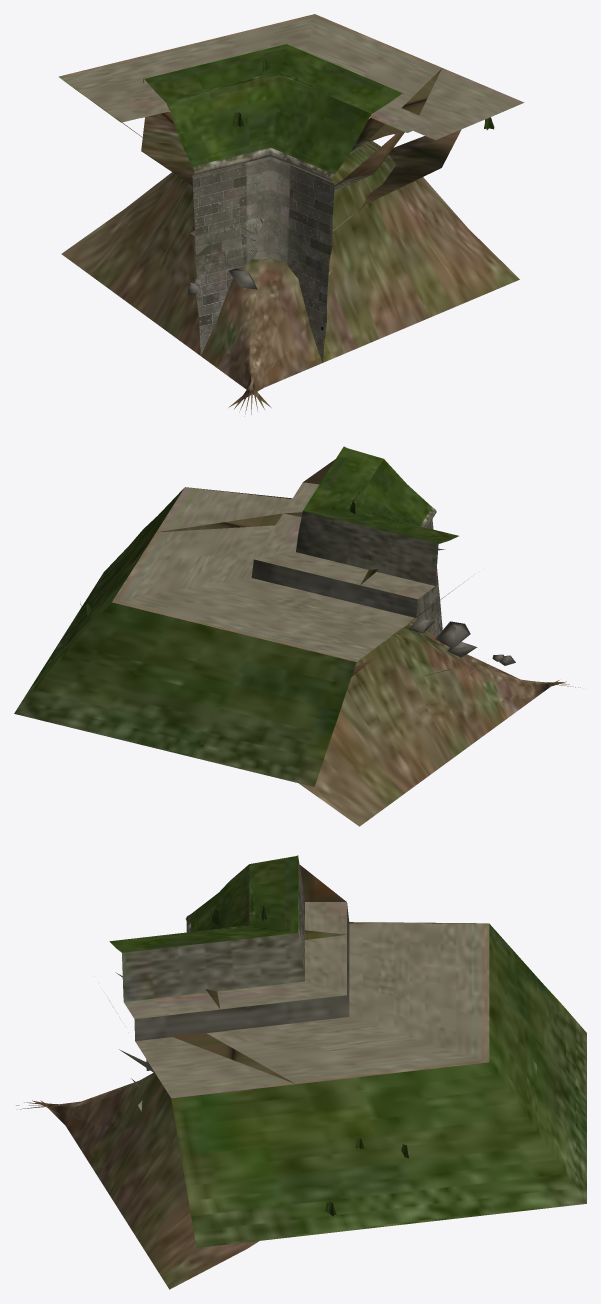
File: starfort_flank_junction_a75_live.glb
3 views of the same model, one above another, from view 1: azimuth 30°, elevation 25°; view 2: azimuth 150°, elevation 25°; view 3: azimuth 270°, elevation 25° (orthographic). The views are drawn at different scales.
Visible parts, largest first — view 1: breached, intact, cracked; view 2: intact, breached, cracked; view 3: intact, cracked, breached, endcap_a.
Boxes of the visible parts, x1=… form: breached: x1=61, y1=45, x2=519, y2=416; intact: x1=58, y1=14, x2=523, y2=362; cracked: x1=59, y1=26, x2=523, y2=359; intact: x1=44, y1=454, x2=448, y2=769; breached: x1=72, y1=473, x2=580, y2=826; cracked: x1=14, y1=447, x2=458, y2=767; intact: x1=110, y1=855, x2=586, y2=1225; cracked: x1=109, y1=856, x2=586, y2=1247; breached: x1=16, y1=858, x2=586, y2=1289; endcap_a: x1=185, y1=855, x2=475, y2=923.
Size of what is drawn, in the model's own units: 11.88 by 6.43 by 12.3.
2 materials, 2 textured.
